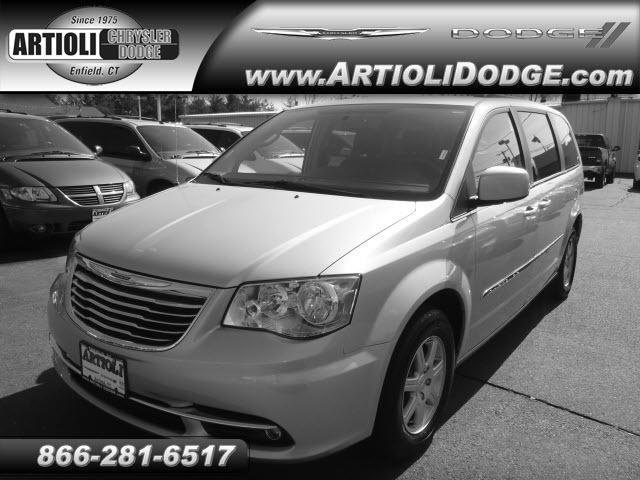car: (45, 77, 592, 479)
